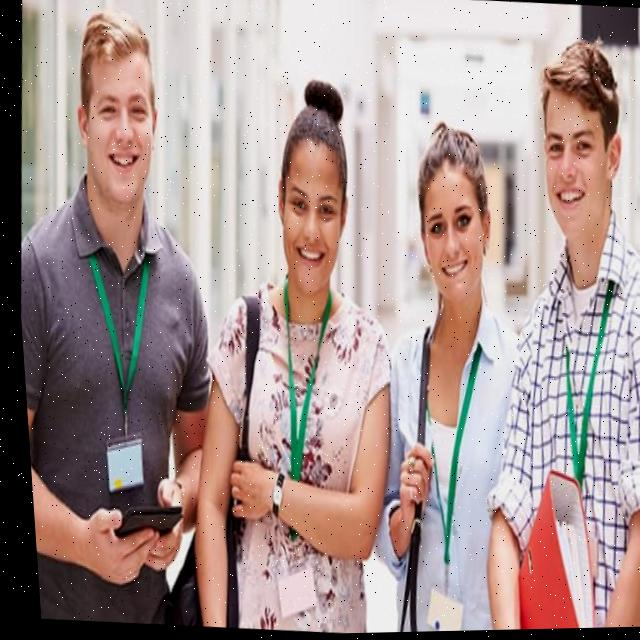id_card: (386, 345, 491, 634), (55, 250, 168, 502), (254, 301, 335, 618)
